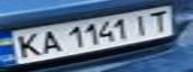1: (63, 22, 84, 50), (109, 16, 133, 40), (81, 20, 100, 46)
4: (96, 17, 115, 44)
A: (36, 27, 63, 55)
I: (127, 11, 154, 36)
K: (6, 30, 45, 60)
T: (142, 7, 175, 34)
